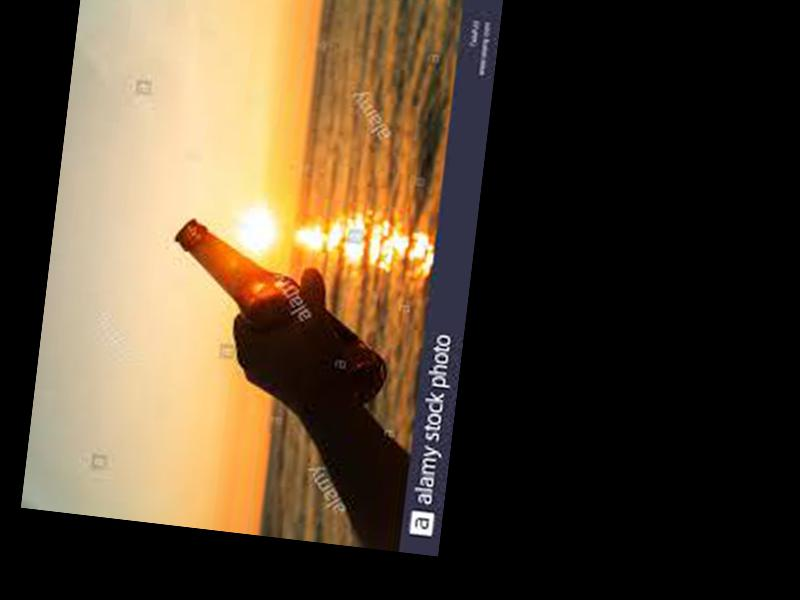Beer: (154, 217, 402, 411)
